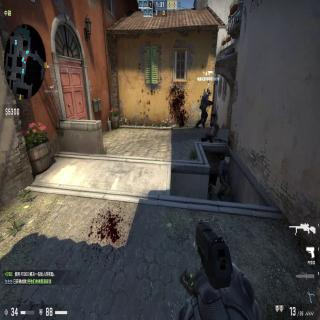CT-Body: (195, 88, 212, 128)
CT-Head: (206, 88, 210, 96)
T-Body: (210, 152, 230, 199)
T-Head: (225, 153, 230, 165)
